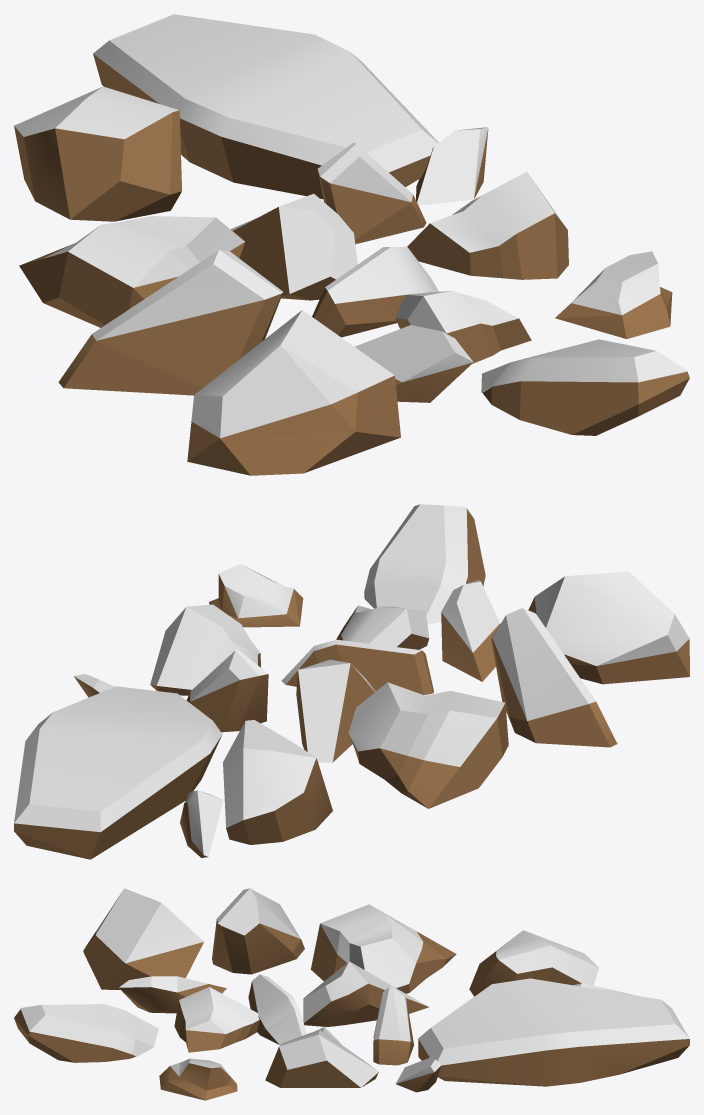
Rendered from Rocks03.fbx.
3 views of the same model, one above another, from view 1: azimuth 30°, elevation 25°; view 2: azimuth 150°, elevation 25°; view 3: azimuth 270°, elevation 25° (orthographic). The views are drawn at different scales.
Parts seen in each view (by area): view 1: Rocks03 Snow; view 2: Rocks03 Snow; view 3: Rocks03 Snow.
Boxes of the visible parts, x1=… form: Rocks03 Snow: x1=14, y1=14, x2=689, y2=475; Rocks03 Snow: x1=14, y1=504, x2=689, y2=859; Rocks03 Snow: x1=14, y1=888, x2=689, y2=1100.
Size of the model in its own units: 473 by 100 by 762.
